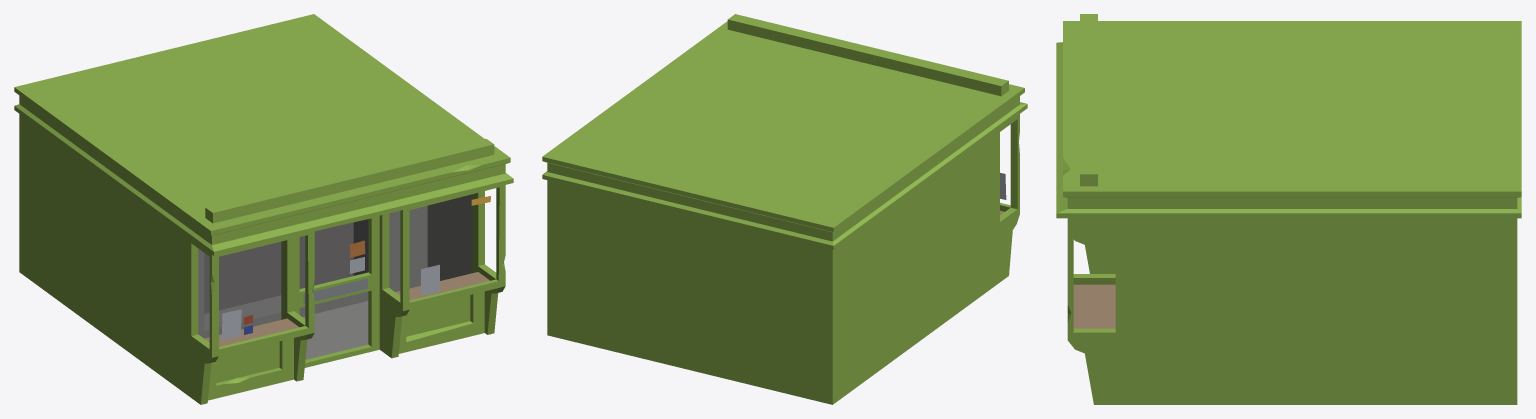
Rendered from Mod_Tienda_2.fbx.
3 views of the same model, side by side, from view 1: azimuth 30°, elevation 25°; view 2: azimuth 150°, elevation 25°; view 3: azimuth 270°, elevation 25° (orthographic). The views are drawn at different scales.
Parts seen in each view (by area): view 1: SM_Bld_Shop_04; view 2: SM_Bld_Shop_04; view 3: SM_Bld_Shop_04.
Boxes of the visible parts, x1,y1,x2,y2 form: SM_Bld_Shop_04: (14,14,513,404); SM_Bld_Shop_04: (542,14,1027,404); SM_Bld_Shop_04: (1056,14,1521,404).
Bounding box in the file's own units: 5.11 × 3.17 × 5.89.
